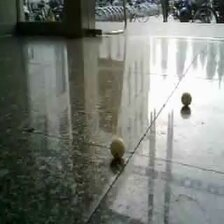w: (109, 137, 128, 158), (180, 92, 194, 106)
